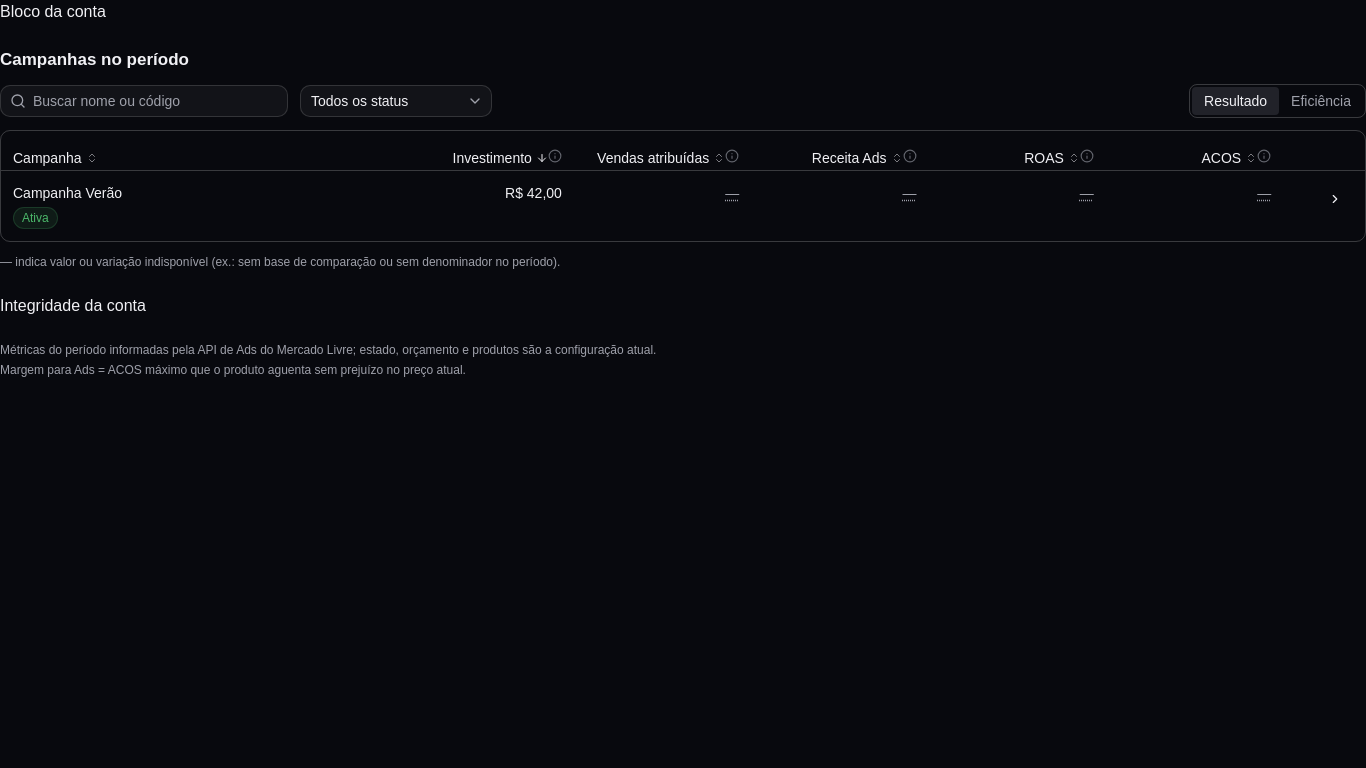
AbaCampanhas › detalhe com a configuração carregando não diz que a campanha saiu
Step 1. Click the button named "Ver campanha Campanha Verão" → (1335, 199), box [1317,183,1353,215]
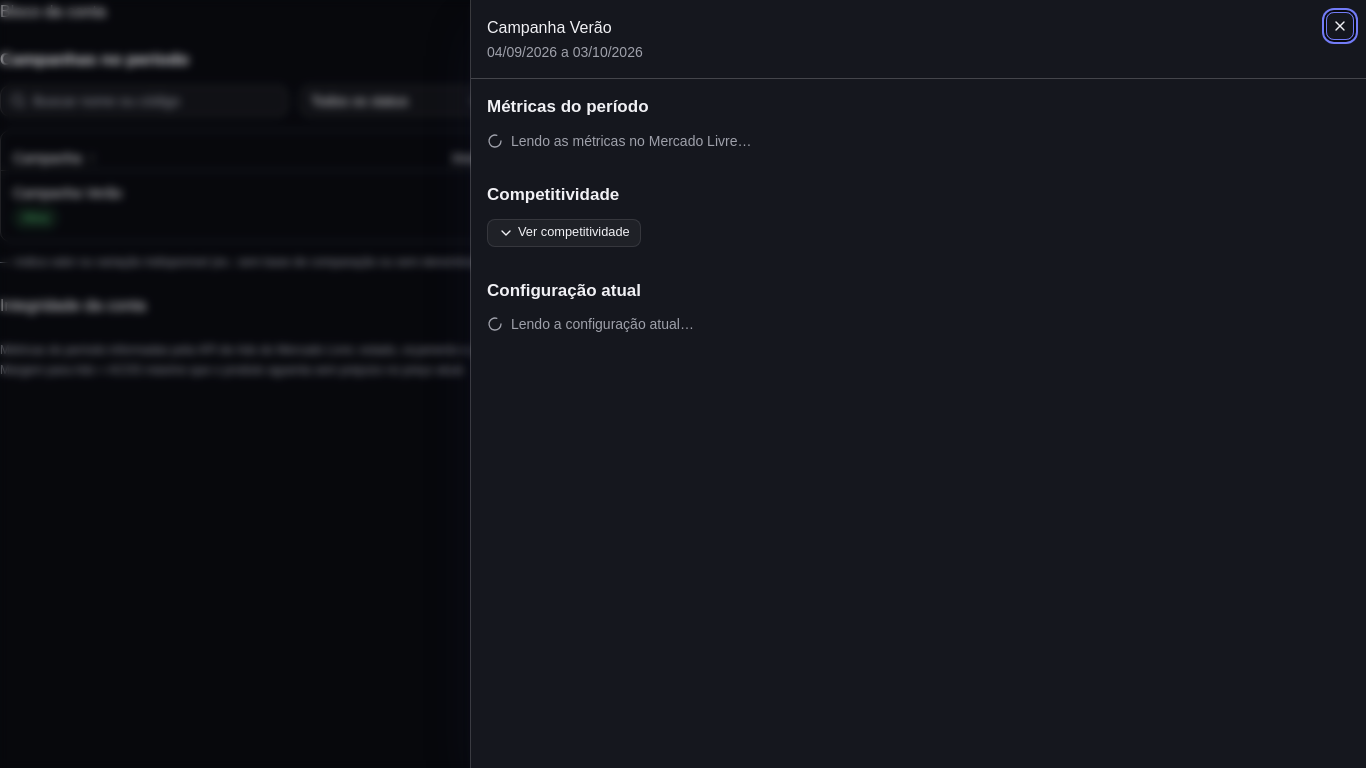
Expected: the text "Lendo a configuração atual…" is shown, [487,316,694,332]
